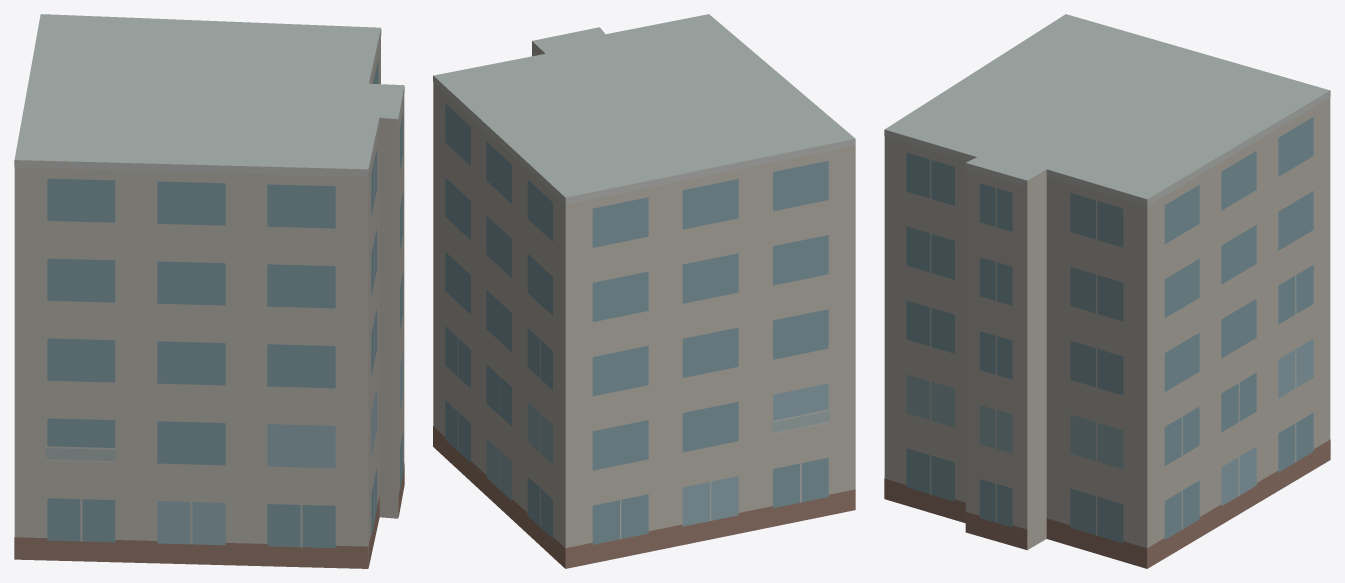
Rendered from survey-upis-32801240.glb.
3 views of the same model, side by side, from view 1: azimuth 30°, elevation 25°; view 2: azimuth 150°, elevation 25°; view 3: azimuth 270°, elevation 25° (orthographic). The views are drawn at different scales.
Parts seen in each view (by area): view 1: survey-upis-32801240.tmp; view 2: survey-upis-32801240.tmp; view 3: survey-upis-32801240.tmp.
Boxes of the visible parts, bbox=[...] form: survey-upis-32801240.tmp: bbox=[14, 14, 404, 568]; survey-upis-32801240.tmp: bbox=[433, 14, 855, 568]; survey-upis-32801240.tmp: bbox=[884, 14, 1330, 568].
Bounding box in the file's own units: 14.05 × 13.05 × 14.28.
